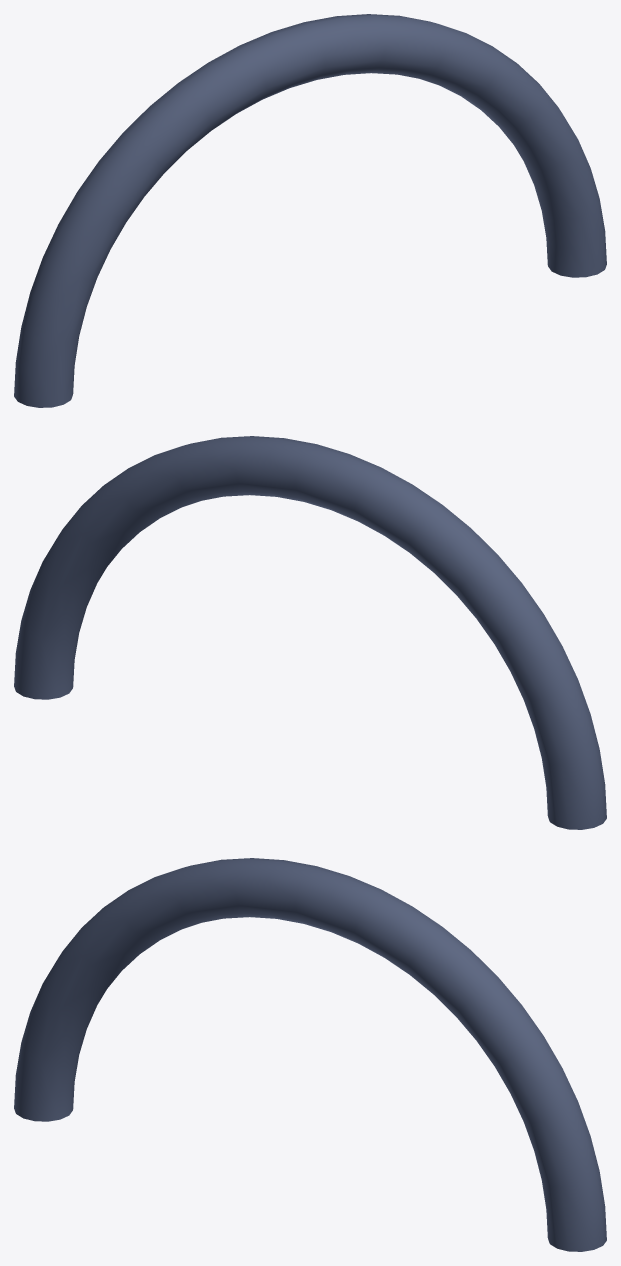
Rendered from broken-ring.high.glb.
3 views of the same model, one above another, from view 1: azimuth 30°, elevation 25°; view 2: azimuth 150°, elevation 25°; view 3: azimuth 330°, elevation 25° (orthographic).
Parts seen in each view (by area): view 1: broken-ring-body; view 2: broken-ring-body; view 3: broken-ring-body.
Boxes of the visible parts, x1,y1,x2,y2 form: broken-ring-body: [14, 14, 606, 407]; broken-ring-body: [14, 436, 606, 829]; broken-ring-body: [14, 858, 606, 1251].
Bounding box in the file's own units: 5.7 × 2.85 × 0.4871.
